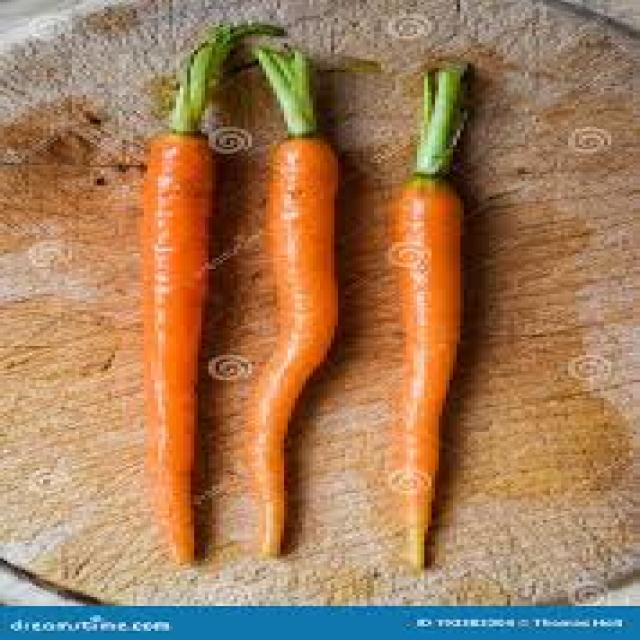Carrot: (146, 130, 208, 567), (397, 177, 463, 578), (267, 133, 324, 558)
